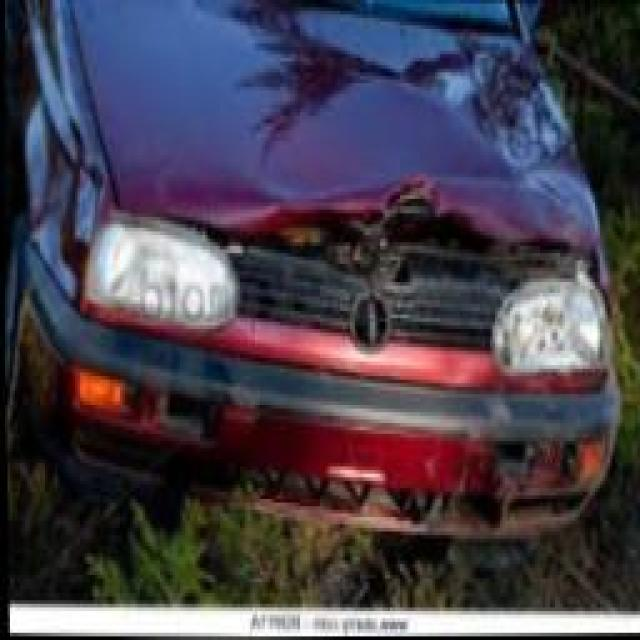replaceable: (292, 182, 488, 264)
